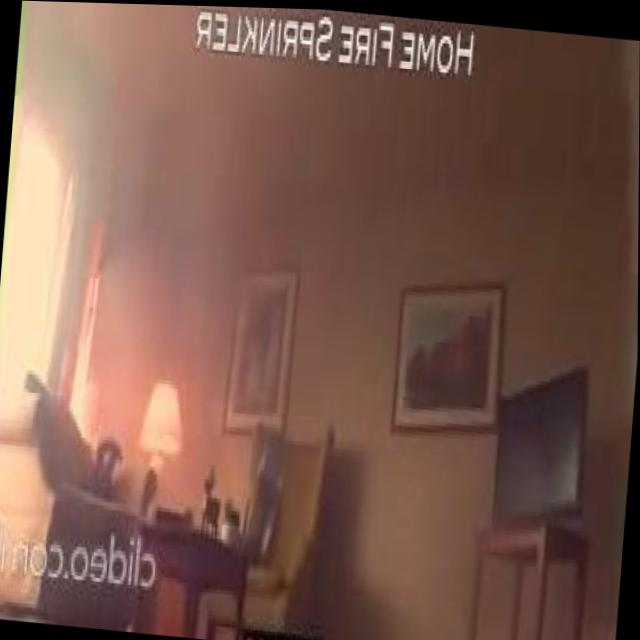fire: (64, 210, 131, 455)
